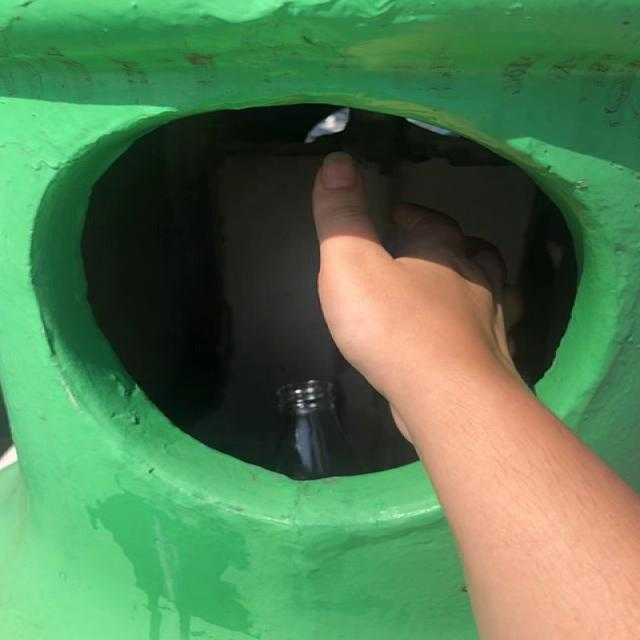glass: (275, 381, 357, 480)
